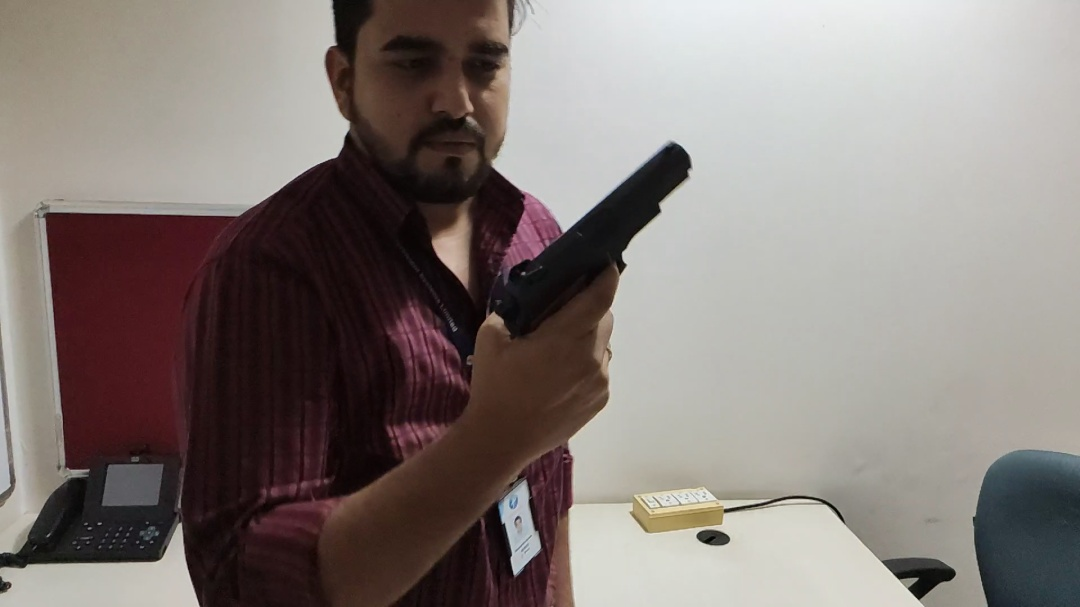gun: (496, 126, 708, 422)
